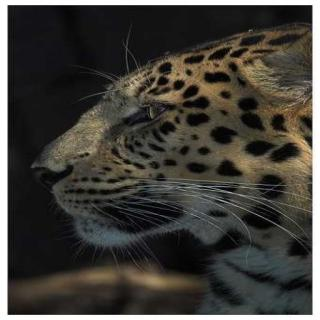Leopard: (34, 23, 320, 300)
